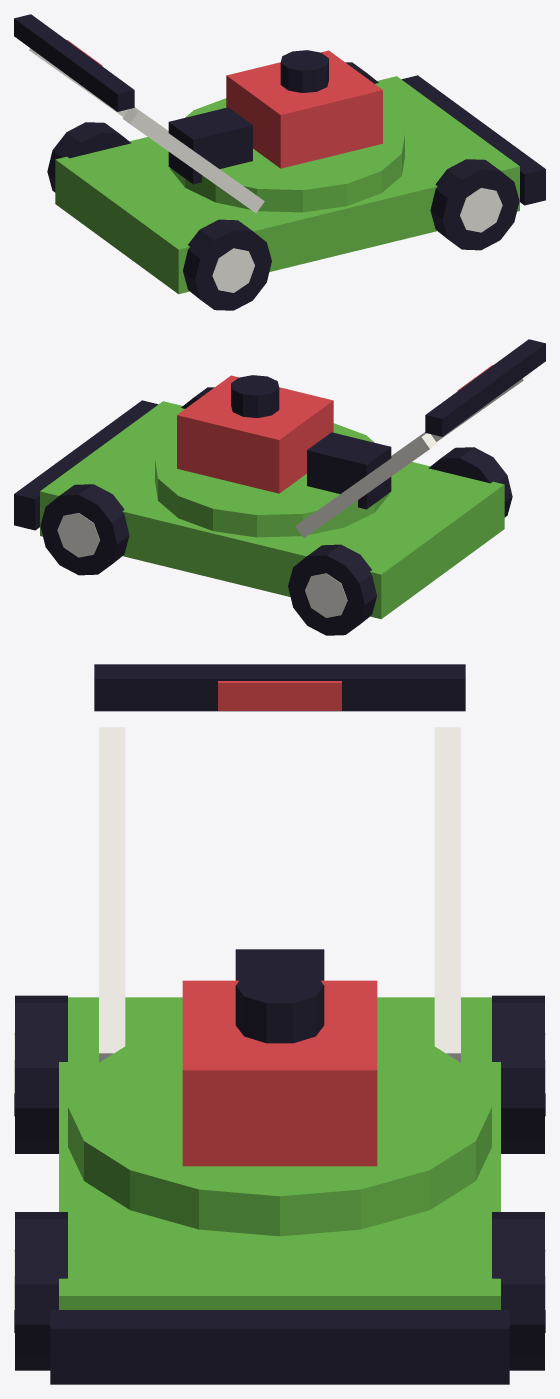
Rendered from SM_Trap_Lawnmower.fbx.
3 renders of one model, top to bottom at view 1: azimuth 30°, elevation 25°; view 2: azimuth 150°, elevation 25°; view 3: azimuth 270°, elevation 25°, orthographic. The views are drawn at different scales.
Visible parts, largest first — view 1: SM_Trap_Lawnmower; view 2: SM_Trap_Lawnmower; view 3: SM_Trap_Lawnmower.
Part boxes in pixels (<box>): SM_Trap_Lawnmower: <box>14,14,545,310</box>; SM_Trap_Lawnmower: <box>14,339,545,635</box>; SM_Trap_Lawnmower: <box>14,664,545,1384</box>.
Size of the model in its own units: 0.975 by 0.5 by 0.602.
